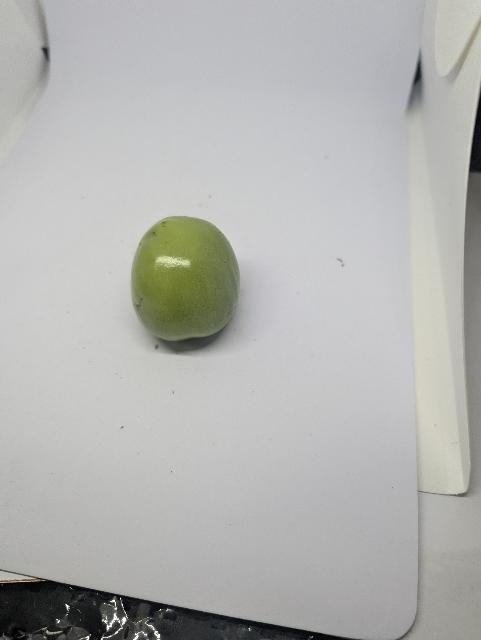green: (129, 213, 242, 342)
